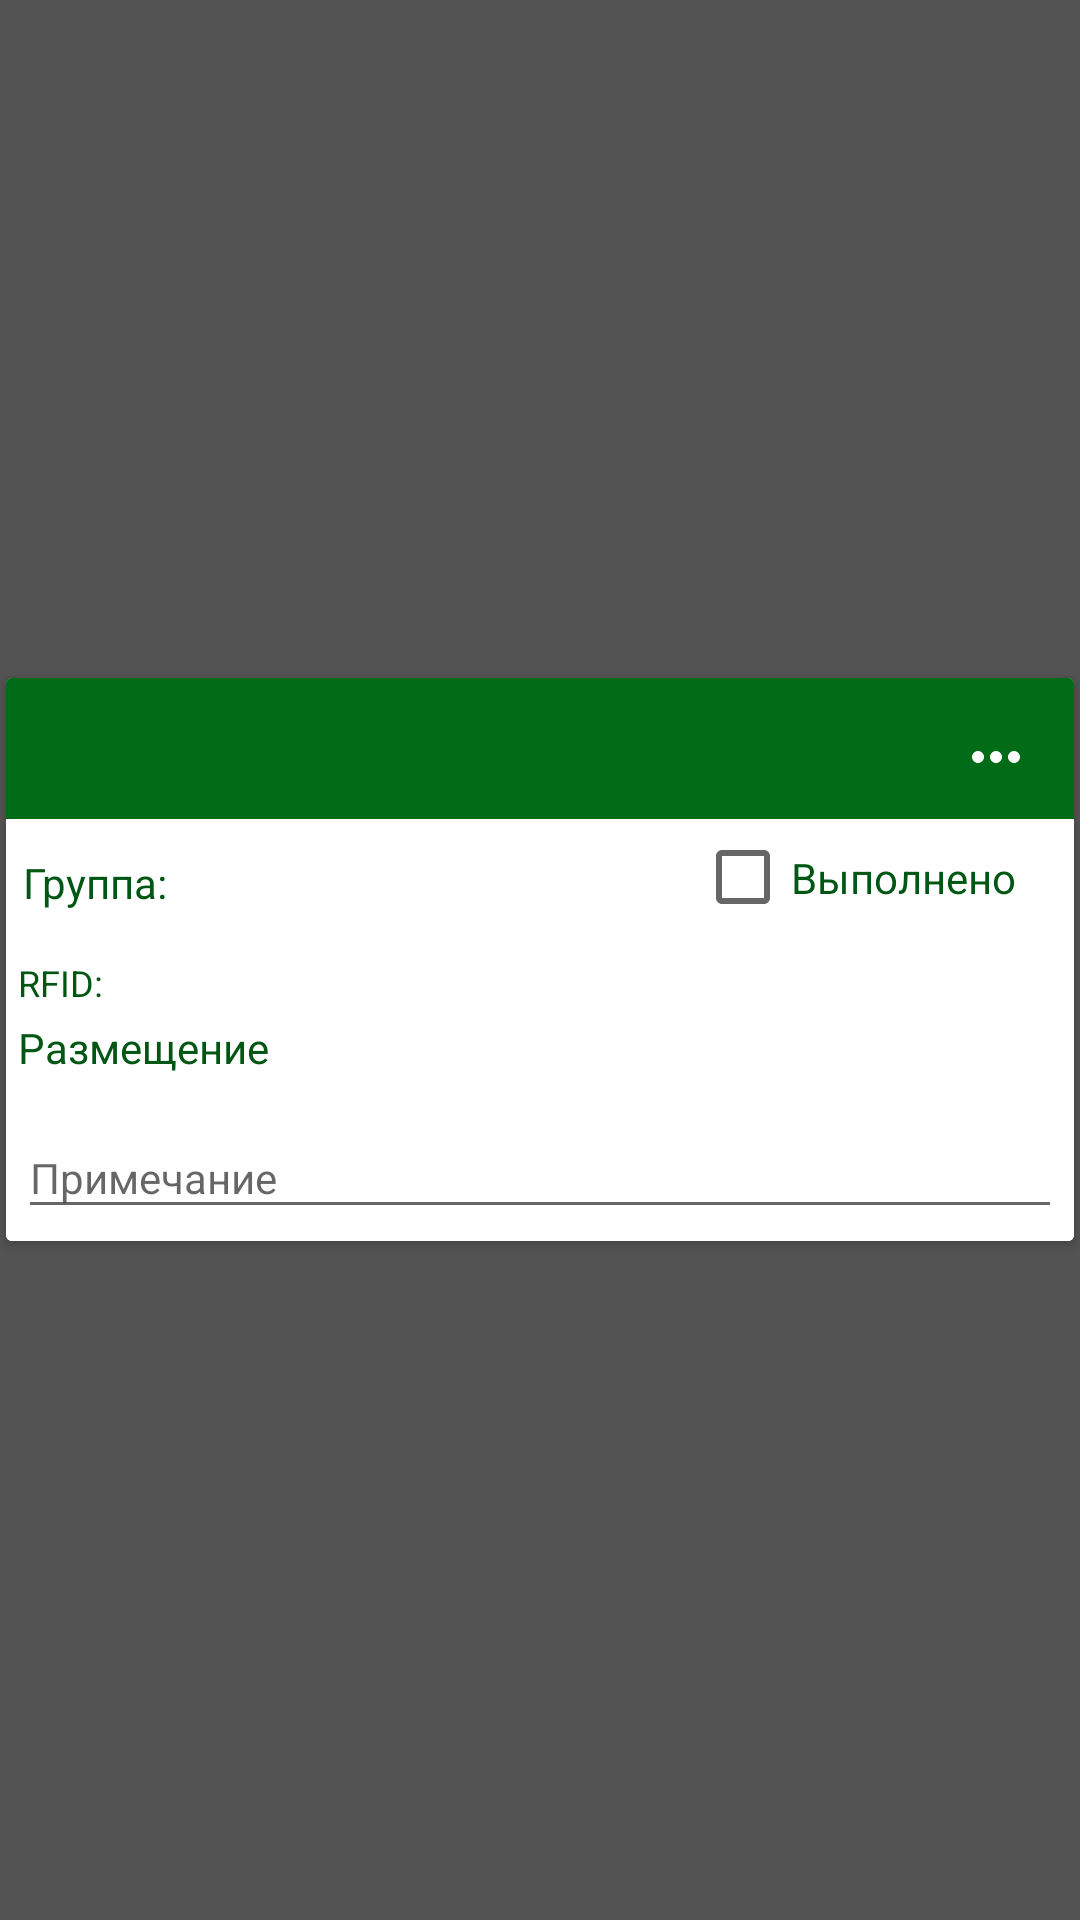

Screen size 1080px×1920px. Icon name, then its center in pixels as point (x, y):
more horiz: point (996, 757)
